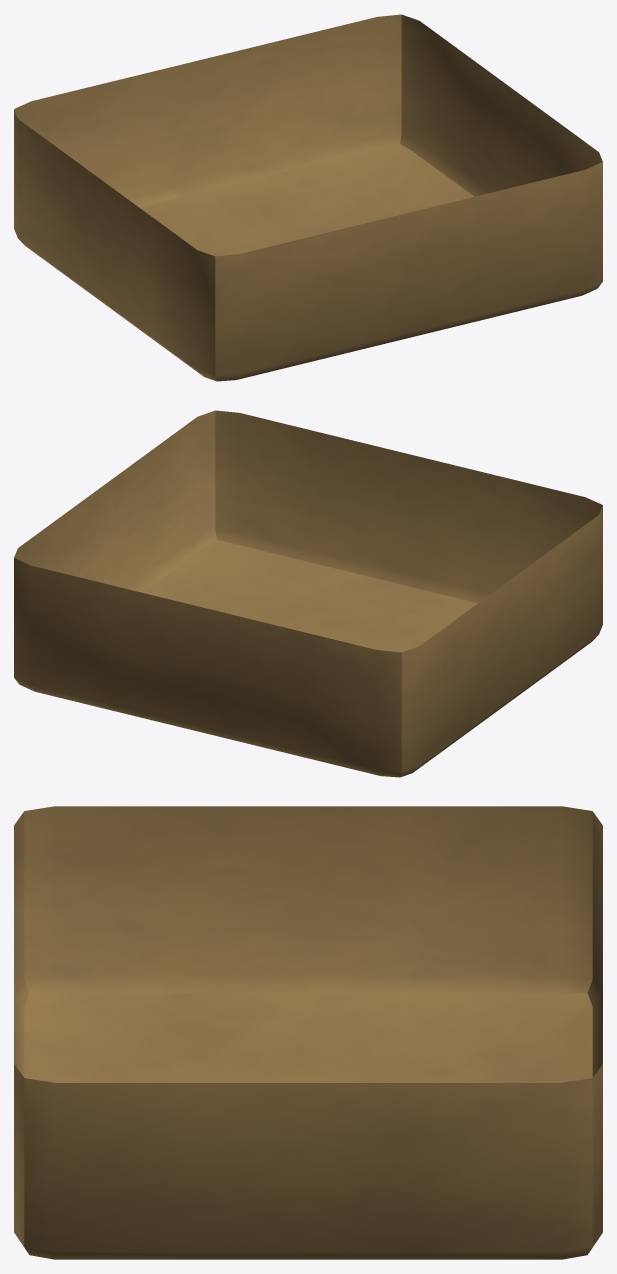
File: PlatformTall Wide HEIGHT BOTTOM EXT.fbx
3 renders of one model, top to bottom at view 1: azimuth 30°, elevation 25°; view 2: azimuth 150°, elevation 25°; view 3: azimuth 270°, elevation 25°, orthographic. The views are drawn at different scales.
Parts seen in each view (by area): view 1: PlatformTall Wide HEIGHT BOTTOM EXT; view 2: PlatformTall Wide HEIGHT BOTTOM EXT; view 3: PlatformTall Wide HEIGHT BOTTOM EXT.
Boxes of the visible parts, bbox=[...] form: PlatformTall Wide HEIGHT BOTTOM EXT: bbox=[14, 14, 602, 381]; PlatformTall Wide HEIGHT BOTTOM EXT: bbox=[14, 410, 602, 777]; PlatformTall Wide HEIGHT BOTTOM EXT: bbox=[14, 806, 602, 1259].
Size of the model in its own units: 60.28 by 54.25 by 18.9.
